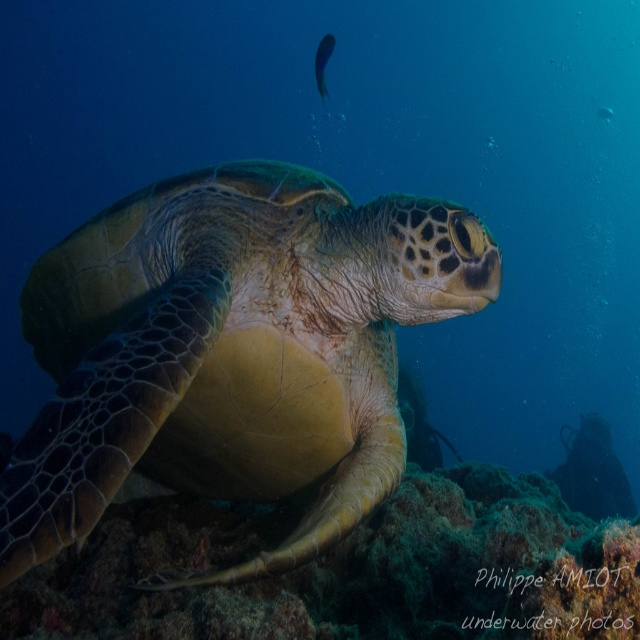Sea turtle: (0, 159, 504, 591)
